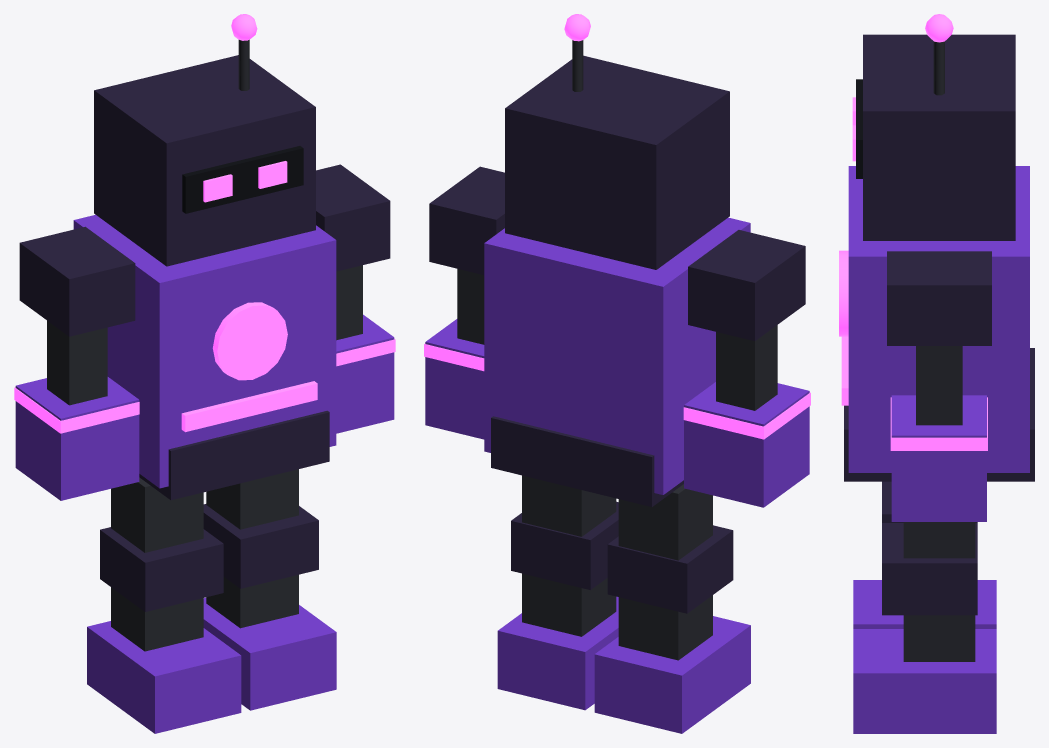
The model's file is robot_scout_purple.glb.
3 views of the same model, side by side, from view 1: azimuth 30°, elevation 25°; view 2: azimuth 150°, elevation 25°; view 3: azimuth 270°, elevation 25° (orthographic). The views are drawn at different scales.
Parts seen in each view (by area): view 1: torso, head, leg_R, arm_R, leg_L, arm_L; view 2: torso, head, leg_R, arm_R, leg_L, arm_L; view 3: head, torso, leg_L, arm_L, leg_R.
Part boxes in pixels (x1,y1,x2,y2): torso: [73, 214, 336, 500]; head: [94, 14, 315, 266]; leg_R: [87, 477, 241, 733]; arm_R: [14, 226, 139, 500]; leg_L: [203, 469, 336, 710]; arm_L: [316, 164, 395, 433]; torso: [484, 217, 750, 506]; head: [505, 14, 729, 269]; leg_R: [594, 484, 750, 733]; arm_R: [683, 230, 810, 507]; leg_L: [497, 475, 618, 710]; arm_L: [424, 166, 504, 439]; head: [852, 14, 1015, 240]; torso: [839, 166, 1034, 481]; leg_L: [853, 522, 996, 733]; arm_L: [887, 251, 991, 521]; leg_R: [853, 481, 996, 628].
Size of the model in its own units: 0.854 by 1.6 by 0.41.
